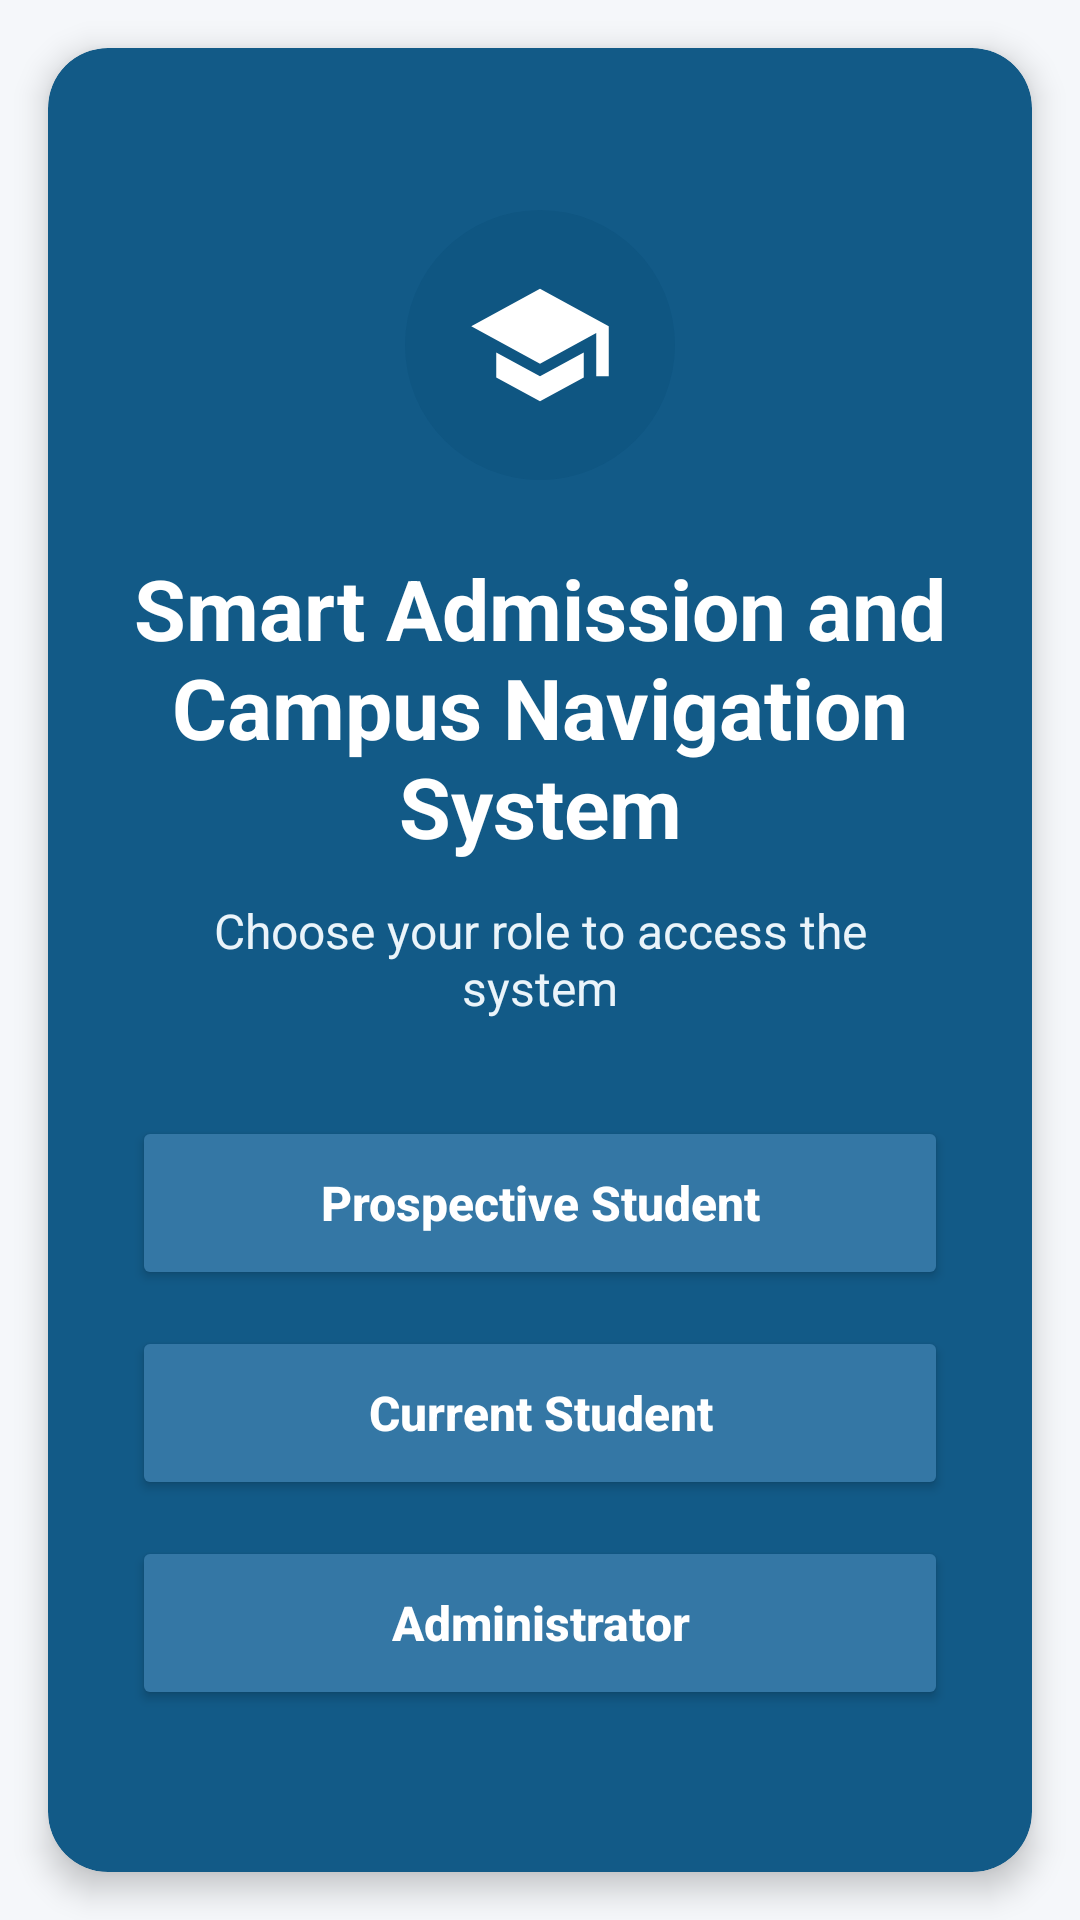

Screen size 1080px×1920px. Icon name, then its center in pixels as point (x, y):
Graduation Cap: point (540, 345)
